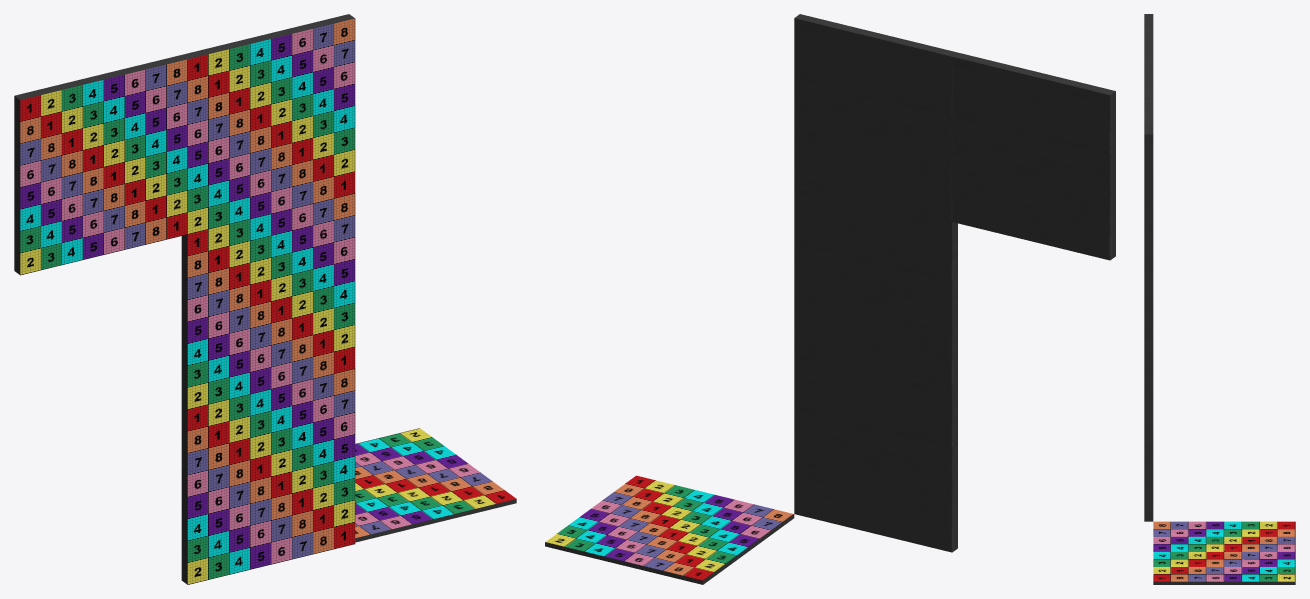
File: asset.glb
3 renders of one model, left to right at view 1: azimuth 30°, elevation 25°; view 2: azimuth 150°, elevation 25°; view 3: azimuth 270°, elevation 25°, orthographic. The views are drawn at different scales.
Visible parts, largest first — view 1: GenericWall_Bottom_01, GenericWall_Middle_01, GenericWall_Top_01, GenericWall_Top_03, GenericWall_Top_02, GenericFloor_01; view 2: GenericWall_Top_01, GenericWall_Bottom_01, GenericWall_Middle_01, GenericFloor_01, GenericWall_Top_03, GenericWall_Top_02; view 3: GenericFloor_01, GenericWall_Top_01, GenericWall_Middle_01, GenericWall_Bottom_01, GenericWall_Top_03.
Part boxes in pixels (x1,y1,x2,y2): GenericWall_Bottom_01: (181, 369, 355, 584); GenericWall_Middle_01: (181, 194, 355, 409); GenericWall_Top_01: (182, 14, 355, 234); GenericWall_Top_03: (14, 55, 187, 187); GenericWall_Top_02: (14, 147, 187, 275); GenericFloor_01: (355, 428, 516, 542); GenericWall_Top_01: (794, 14, 957, 221); GenericWall_Bottom_01: (794, 349, 957, 552); GenericWall_Middle_01: (794, 183, 957, 386); GenericFloor_01: (545, 475, 794, 584); GenericWall_Top_03: (952, 52, 1115, 177); GenericWall_Top_02: (952, 139, 1115, 260); GenericFloor_01: (1153, 521, 1295, 584); GenericWall_Top_01: (1144, 74, 1153, 263); GenericWall_Middle_01: (1144, 263, 1153, 392); GenericWall_Bottom_01: (1144, 392, 1153, 521); GenericWall_Top_03: (1144, 14, 1153, 74).
Size of the model in its own units: 3 by 3.03 by 1.06.
2 materials, 2 textured.
